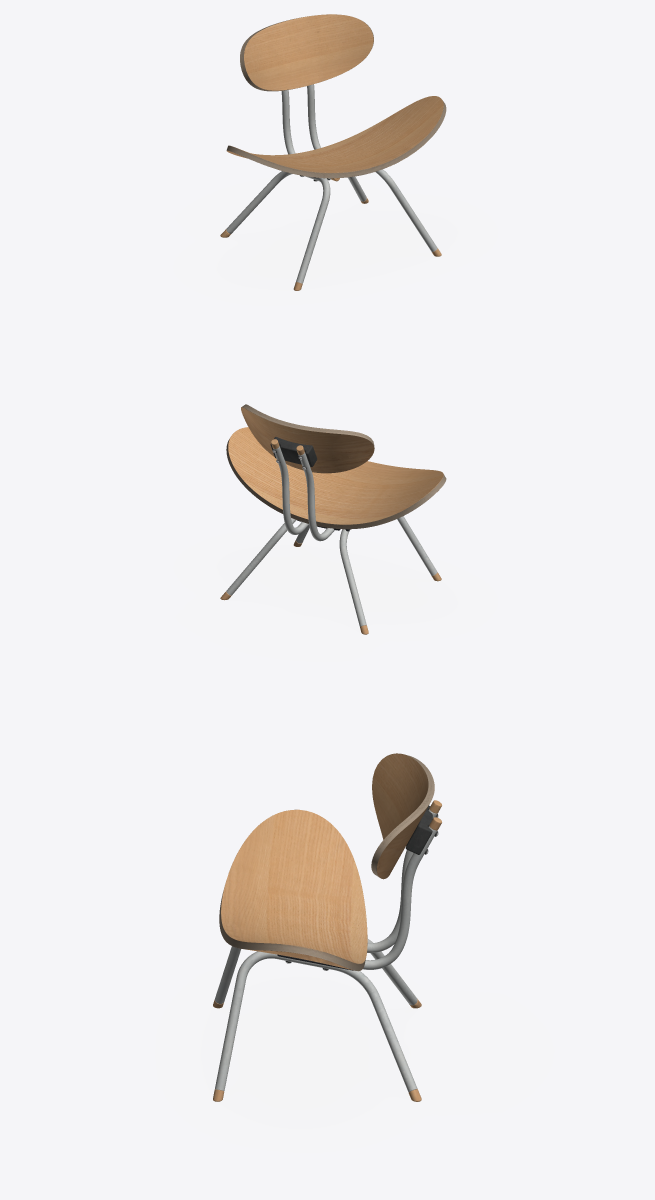
The model's file is chair3.glb.
3 views of the same model, one above another, from view 1: azimuth 30°, elevation 25°; view 2: azimuth 150°, elevation 25°; view 3: azimuth 270°, elevation 25° (orthographic). The views are drawn at different scales.
Visible parts, largest first — view 1: chair3_shadow, chair3; view 2: chair3_shadow, chair3; view 3: chair3_shadow, chair3.
Boxes of the visible parts, bbox=[...] form: chair3_shadow: bbox=[182, 180, 490, 302]; chair3: bbox=[220, 14, 446, 290]; chair3_shadow: bbox=[182, 533, 490, 655]; chair3: bbox=[220, 404, 446, 634]; chair3_shadow: bbox=[164, 959, 536, 1148]; chair3: bbox=[213, 753, 441, 1101].
Size of the model in its own units: 1.6 by 0.7551 by 1.6.
2 materials, 2 textured.
